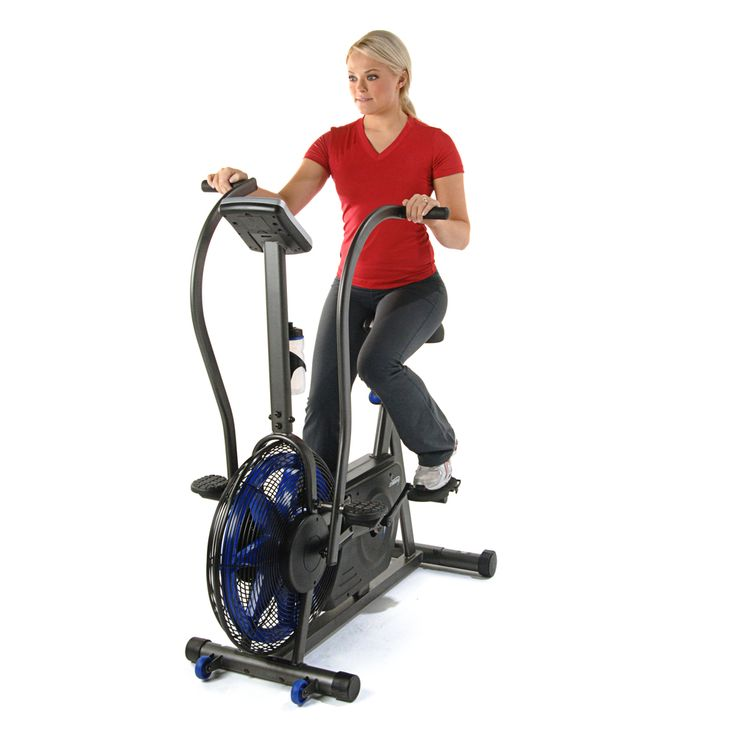gym_bike: (114, 177, 507, 710)
